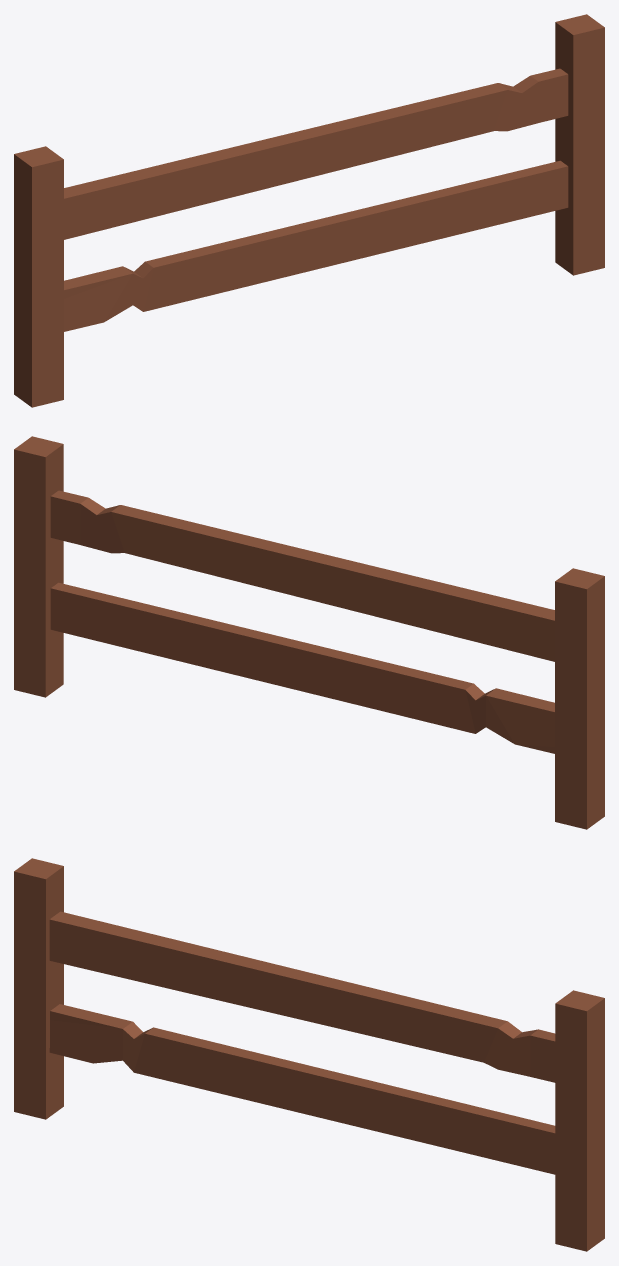
Rendered from fence.1.close.glb.
3 renders of one model, top to bottom at view 1: azimuth 30°, elevation 25°; view 2: azimuth 150°, elevation 25°; view 3: azimuth 330°, elevation 25°, orthographic.
Visible parts, largest first — view 1: fence.1.close; view 2: fence.1.close; view 3: fence.1.close.
Part boxes in pixels (box(x1,y1,x2,y2)): fence.1.close: box(14, 14, 604, 407); fence.1.close: box(14, 436, 604, 829); fence.1.close: box(14, 858, 604, 1251).
Size of the model in its own units: 3.03 by 1.21 by 0.1655.
